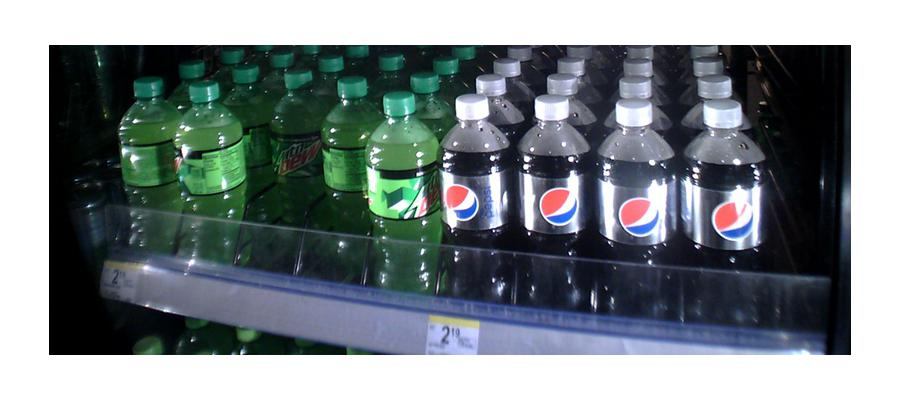bottle: (684, 90, 767, 315), (595, 93, 678, 317), (516, 88, 590, 311), (366, 93, 440, 299), (440, 92, 513, 295), (174, 83, 242, 269), (316, 77, 373, 282), (120, 80, 179, 266), (268, 66, 321, 258)
